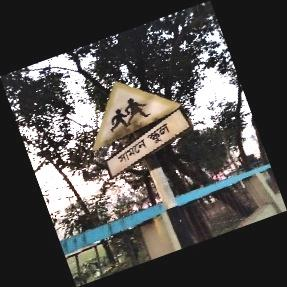School-in-front: (93, 82, 191, 179)
